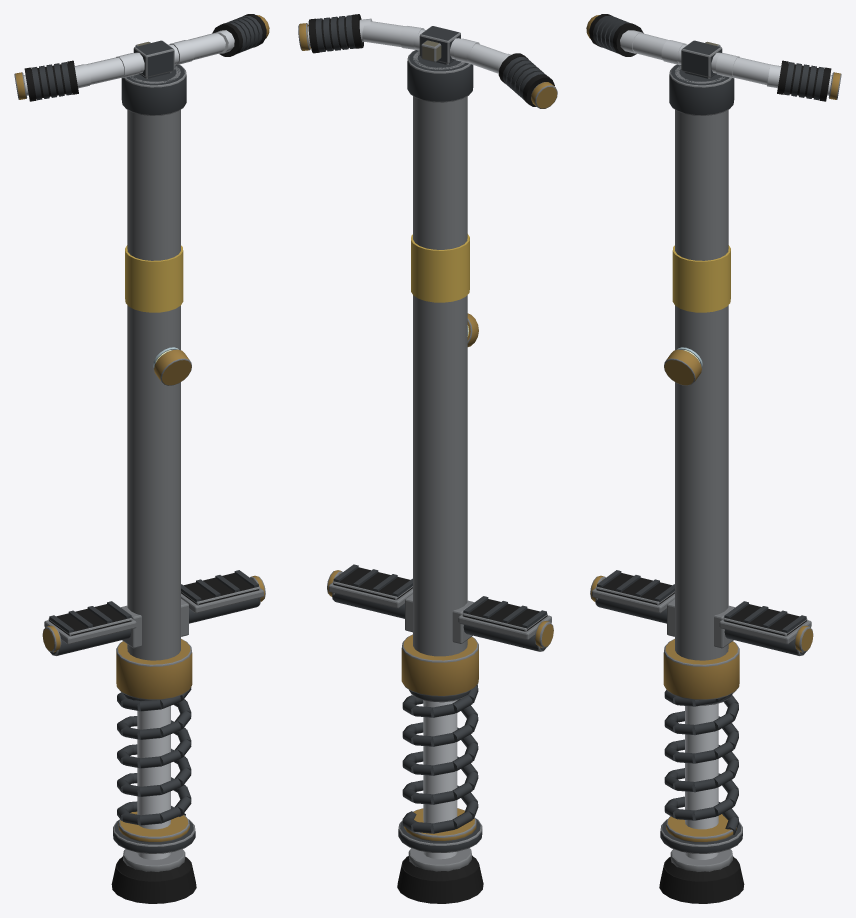
File: jumping_rod.fbx
3 views of the same model, side by side, from view 1: azimuth 30°, elevation 25°; view 2: azimuth 150°, elevation 25°; view 3: azimuth 330°, elevation 25° (orthographic).
Visible parts, largest first — view 1: Mesh_JumpingRod_Shaft, Mesh_JumpingRod_Spring, Mesh_JumpingRod_Handlebar, Mesh_JumpingRod_Foot, Mesh_JumpingRod_Collar, Mesh_JumpingRod_Peg_L, Mesh_JumpingRod_Band, Mesh_JumpingRod_Peg_R, Mesh_JumpingRod_Piston, Mesh_JumpingRod_SpringSeat, Mesh_JumpingRod_Grip_L, Mesh_JumpingRod_Grip_R (+1 smaller); view 2: Mesh_JumpingRod_Shaft, Mesh_JumpingRod_Spring, Mesh_JumpingRod_Foot, Mesh_JumpingRod_Handlebar, Mesh_JumpingRod_Collar, Mesh_JumpingRod_Peg_L, Mesh_JumpingRod_Band, Mesh_JumpingRod_Peg_R, Mesh_JumpingRod_Piston, Mesh_JumpingRod_Grip_R, Mesh_JumpingRod_Grip_L, Mesh_JumpingRod_SpringSeat; view 3: Mesh_JumpingRod_Shaft, Mesh_JumpingRod_Spring, Mesh_JumpingRod_Handlebar, Mesh_JumpingRod_Foot, Mesh_JumpingRod_Collar, Mesh_JumpingRod_Peg_R, Mesh_JumpingRod_Band, Mesh_JumpingRod_Piston, Mesh_JumpingRod_Peg_L, Mesh_JumpingRod_SpringSeat, Mesh_JumpingRod_Grip_R, Mesh_JumpingRod_Grip_L (+1 smaller).
Boxes of the visible parts, box(x1,y1,x2,y2) form: Mesh_JumpingRod_Shaft: box(121, 64, 188, 660); Mesh_JumpingRod_Spring: box(117, 687, 191, 825); Mesh_JumpingRod_Handlebar: box(23, 30, 234, 95); Mesh_JumpingRod_Foot: box(111, 849, 196, 903); Mesh_JumpingRod_Collar: box(116, 639, 192, 700); Mesh_JumpingRod_Peg_L: box(42, 601, 136, 655); Mesh_JumpingRod_Band: box(125, 245, 183, 312); Mesh_JumpingRod_Peg_R: box(181, 570, 265, 623); Mesh_JumpingRod_Piston: box(137, 706, 170, 859); Mesh_JumpingRod_SpringSeat: box(113, 811, 195, 853); Mesh_JumpingRod_Grip_L: box(14, 60, 78, 101); Mesh_JumpingRod_Grip_R: box(212, 14, 269, 56); Mesh_JumpingRod_Shaft: box(405, 50, 474, 656); Mesh_JumpingRod_Spring: box(402, 685, 478, 833); Mesh_JumpingRod_Foot: box(397, 848, 483, 903); Mesh_JumpingRod_Handlebar: box(307, 18, 511, 73); Mesh_JumpingRod_Collar: box(401, 634, 478, 702); Mesh_JumpingRod_Peg_L: box(458, 596, 553, 651); Mesh_JumpingRod_Band: box(411, 234, 469, 302); Mesh_JumpingRod_Peg_R: box(327, 564, 412, 618); Mesh_JumpingRod_Piston: box(423, 700, 457, 859); Mesh_JumpingRod_Grip_R: box(298, 14, 363, 53); Mesh_JumpingRod_Grip_L: box(498, 53, 557, 108); Mesh_JumpingRod_SpringSeat: box(398, 808, 482, 852); Mesh_JumpingRod_Shaft: box(667, 64, 734, 660); Mesh_JumpingRod_Spring: box(664, 690, 738, 834); Mesh_JumpingRod_Handlebar: box(620, 30, 832, 95); Mesh_JumpingRod_Foot: box(659, 849, 744, 903); Mesh_JumpingRod_Collar: box(663, 639, 739, 705); Mesh_JumpingRod_Peg_R: box(719, 601, 813, 655); Mesh_JumpingRod_Band: box(672, 245, 730, 312); Mesh_JumpingRod_Piston: box(685, 703, 718, 859); Mesh_JumpingRod_Peg_L: box(590, 570, 674, 623); Mesh_JumpingRod_SpringSeat: box(660, 814, 742, 853); Mesh_JumpingRod_Grip_R: box(777, 60, 841, 101); Mesh_JumpingRod_Grip_L: box(586, 14, 643, 56).
Size of the model in its own units: 51.89 by 165 by 17.01.
